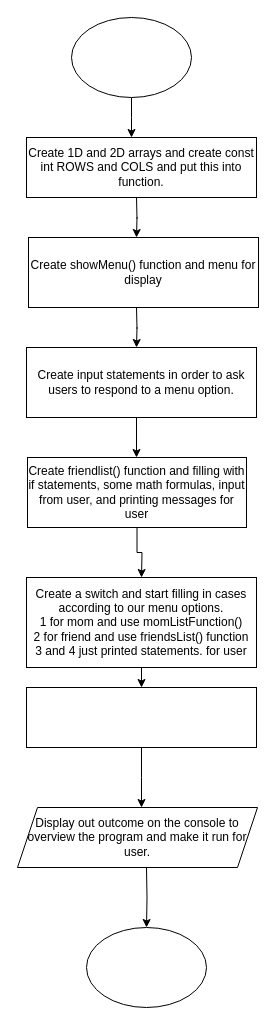
Image size: 276x1025. Some labels were removed from this diagram. The shapes that lost their labels are listed below. From the top down, each one's centre as x and y in pixels, then its label:
the point at 131,57: Start
the point at 141,717: Create a txt file baby registry and fill it in with information.
the point at 146,967: finish
